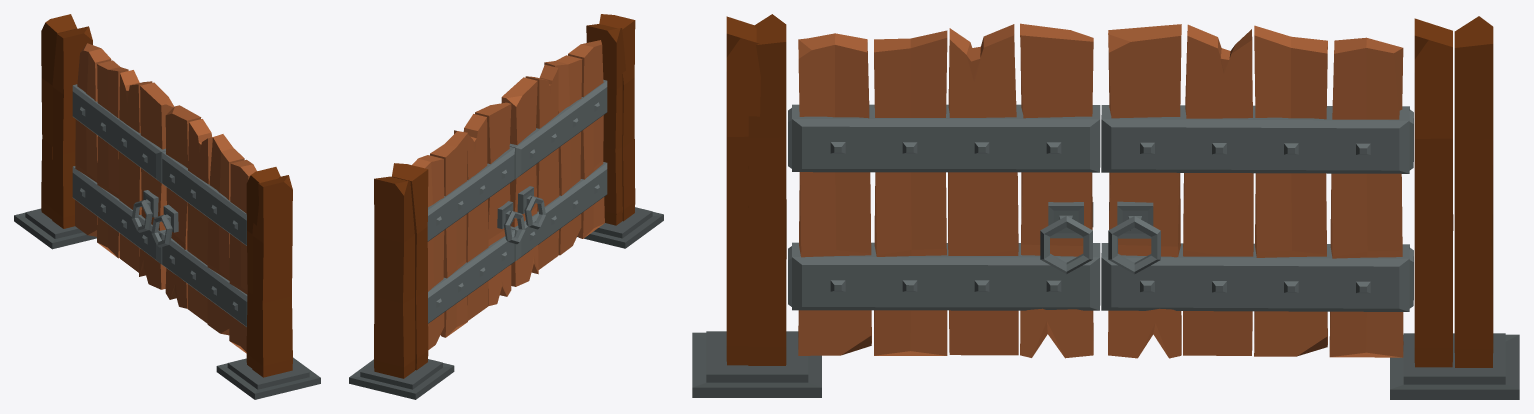
The model's file is Gate.fbx.
3 views of the same model, side by side, from view 1: azimuth 30°, elevation 25°; view 2: azimuth 150°, elevation 25°; view 3: azimuth 270°, elevation 25° (orthographic). The views are drawn at different scales.
Parts seen in each view (by area): view 1: Cube.003, Cube.002, Cube.006, Cube; view 2: Cube.002, Cube.003, Cube, Cube.006; view 3: Cube.003, Cube.002, Cube, Cube.006.
Part boxes in pixels (x1,y1,x2,y2): Cube.003: (72,43,174,289); Cube.002: (151,105,256,353); Cube.006: (216,167,320,399); Cube: (14,14,96,249); Cube.002: (501,40,607,286); Cube.003: (412,102,525,349); Cube: (349,163,454,399); Cube.006: (577,14,663,248); Cube.003: (1101,24,1413,358); Cube.002: (788,23,1100,358); Cube: (1390,16,1519,399); Cube.006: (692,14,821,397).
Size of the model in its own units: 138 by 393 by 853.
